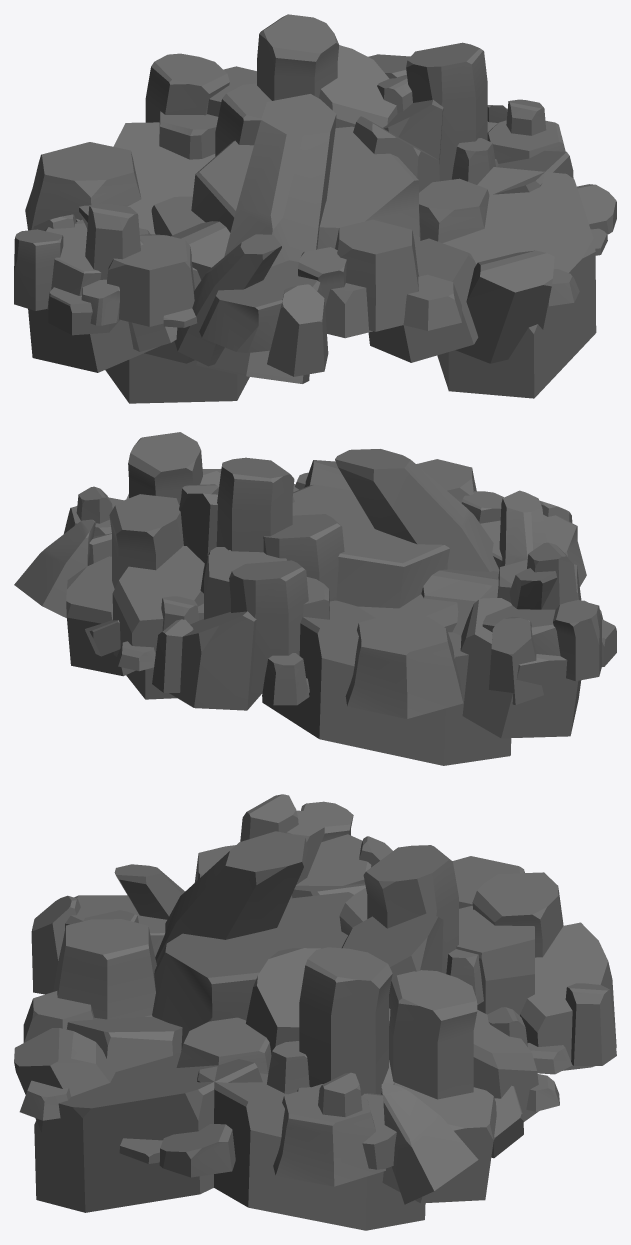
File: Zone3_RockIsland_2.fbx
3 renders of one model, top to bottom at view 1: azimuth 30°, elevation 25°; view 2: azimuth 150°, elevation 25°; view 3: azimuth 270°, elevation 25°, orthographic. The views are drawn at different scales.
Parts seen in each view (by area): view 1: rock_medium_61, rock_large_29, rock_medium_65, rock_large_30, rock_medium_59, rock_medium_60, rock_large_28, rock_large_34, rock_large_33, rock_large_32, rock_medium_63, rock_medium_64 (+2 smaller); view 2: rock_medium_65, rock_large_29, rock_large_32, rock_large_31, rock_large_33, rock_large_28, rock_large_30, rock_medium_63, rock_medium_62, rock_large_34, rock_medium_64, rock_medium_59 (+2 smaller); view 3: rock_medium_61, rock_large_29, rock_medium_63, rock_large_31, rock_large_32, rock_large_34, rock_large_28, rock_medium_60, rock_medium_62, rock_large_30, rock_medium_64, rock_large_33 (+2 smaller).
Part boxes in pixels (<box>): rock_medium_61: <box>368,167,616,398</box>; rock_large_29: <box>151,83,439,383</box>; rock_medium_65: <box>25,122,249,403</box>; rock_large_30: <box>174,234,346,376</box>; rock_medium_59: <box>81,203,201,327</box>; rock_medium_60: <box>325,219,461,338</box>; rock_large_28: <box>257,14,412,127</box>; rock_large_34: <box>383,42,498,184</box>; rock_large_33: <box>14,205,177,351</box>; rock_large_32: <box>145,53,229,122</box>; rock_medium_63: <box>487,120,573,194</box>; rock_medium_64: <box>159,66,256,159</box>; rock_medium_65: <box>262,569,581,765</box>; rock_large_29: <box>263,449,499,632</box>; rock_large_32: <box>152,560,309,710</box>; rock_large_31: <box>85,494,204,671</box>; rock_large_33: <box>482,568,616,705</box>; rock_large_28: <box>179,457,294,593</box>; rock_large_30: <box>461,490,586,586</box>; rock_medium_63: <box>64,494,176,699</box>; rock_medium_62: <box>14,486,112,618</box>; rock_large_34: <box>128,432,220,505</box>; rock_medium_64: <box>198,550,329,620</box>; rock_medium_59: <box>497,542,603,619</box>; rock_medium_61: <box>14,1016,271,1212</box>; rock_large_29: <box>152,831,367,1054</box>; rock_medium_63: <box>197,1066,496,1230</box>; rock_large_31: <box>389,970,559,1158</box>; rock_large_32: <box>472,872,616,1074</box>; rock_large_34: <box>267,947,394,1095</box>; rock_large_28: <box>342,845,483,1004</box>; rock_medium_60: <box>23,919,156,1042</box>; rock_medium_62: <box>318,1072,478,1204</box>; rock_large_30: <box>31,864,184,994</box>; rock_medium_64: <box>456,905,534,1015</box>; rock_large_33: <box>287,801,392,885</box>.
Size of the model in its own units: 14867 by 7257 by 12163.
